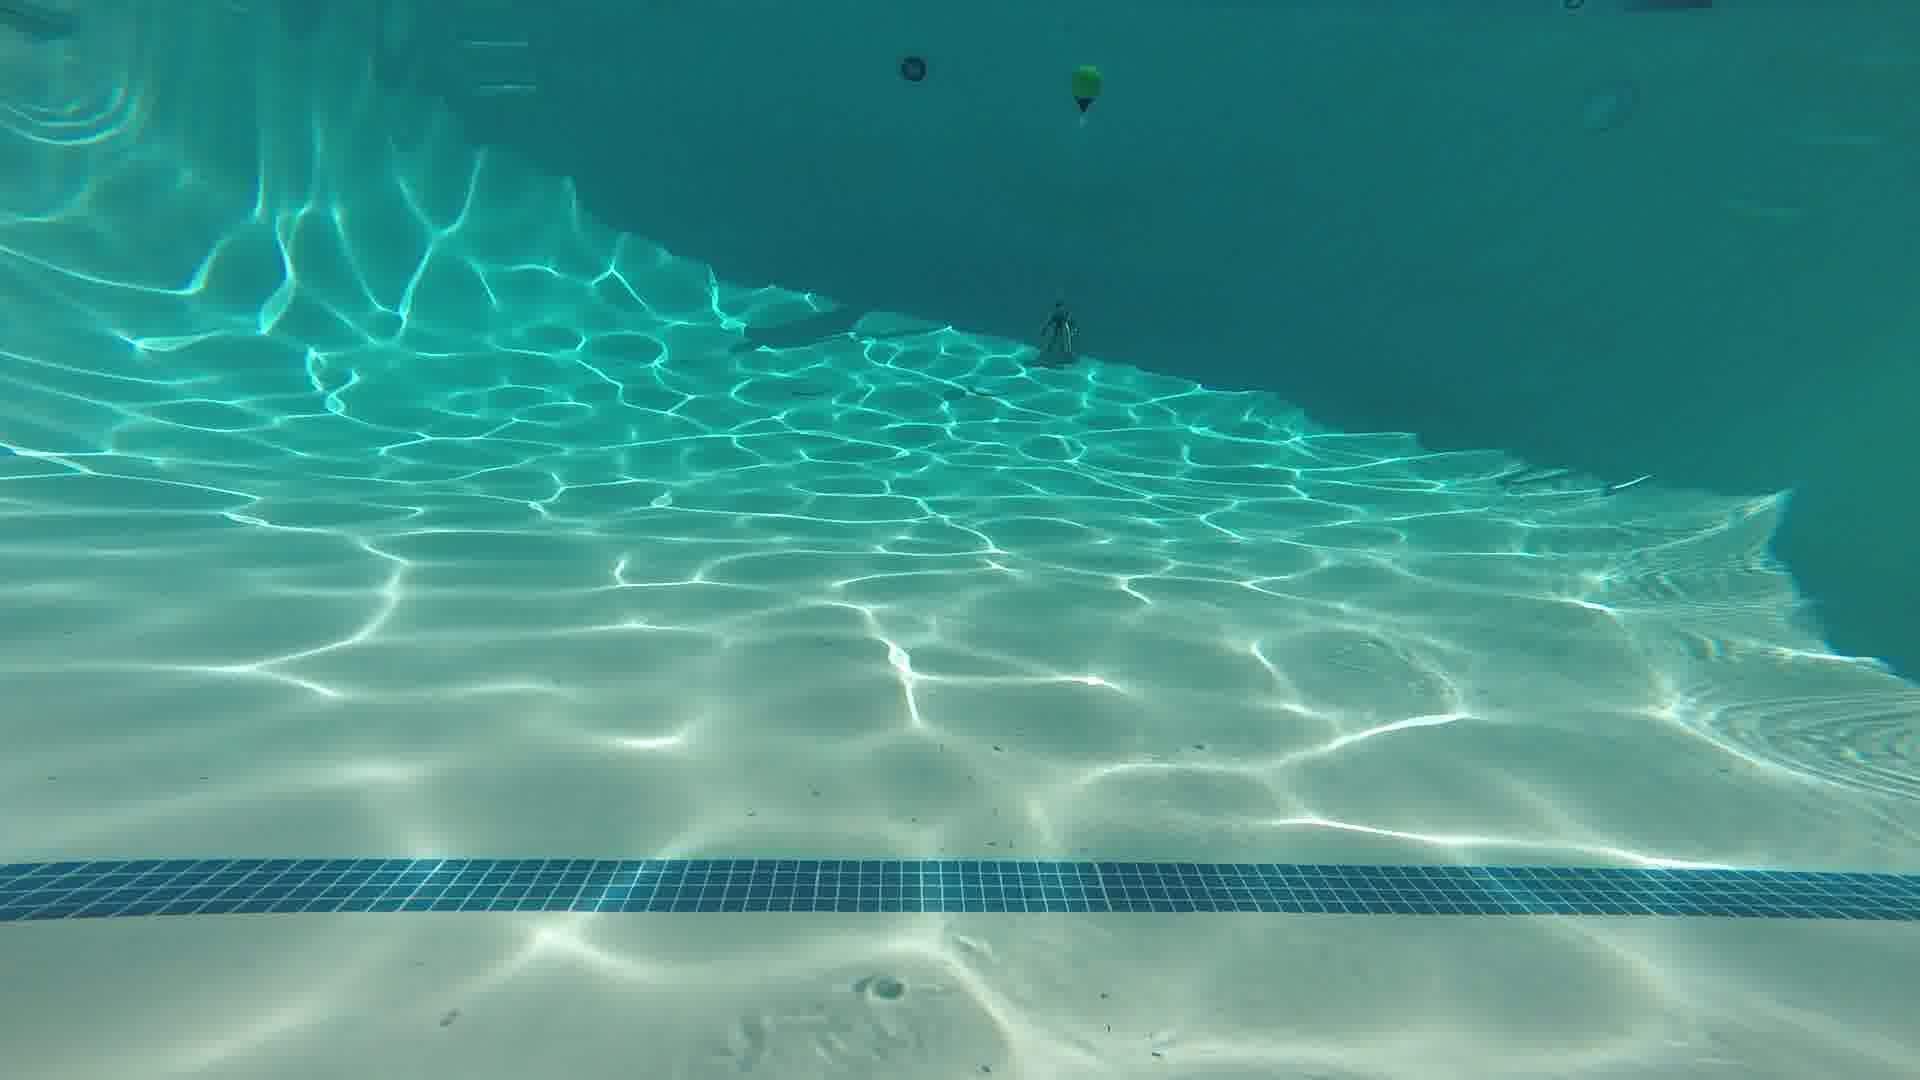yellow buoy: (1063, 55, 1110, 131)
